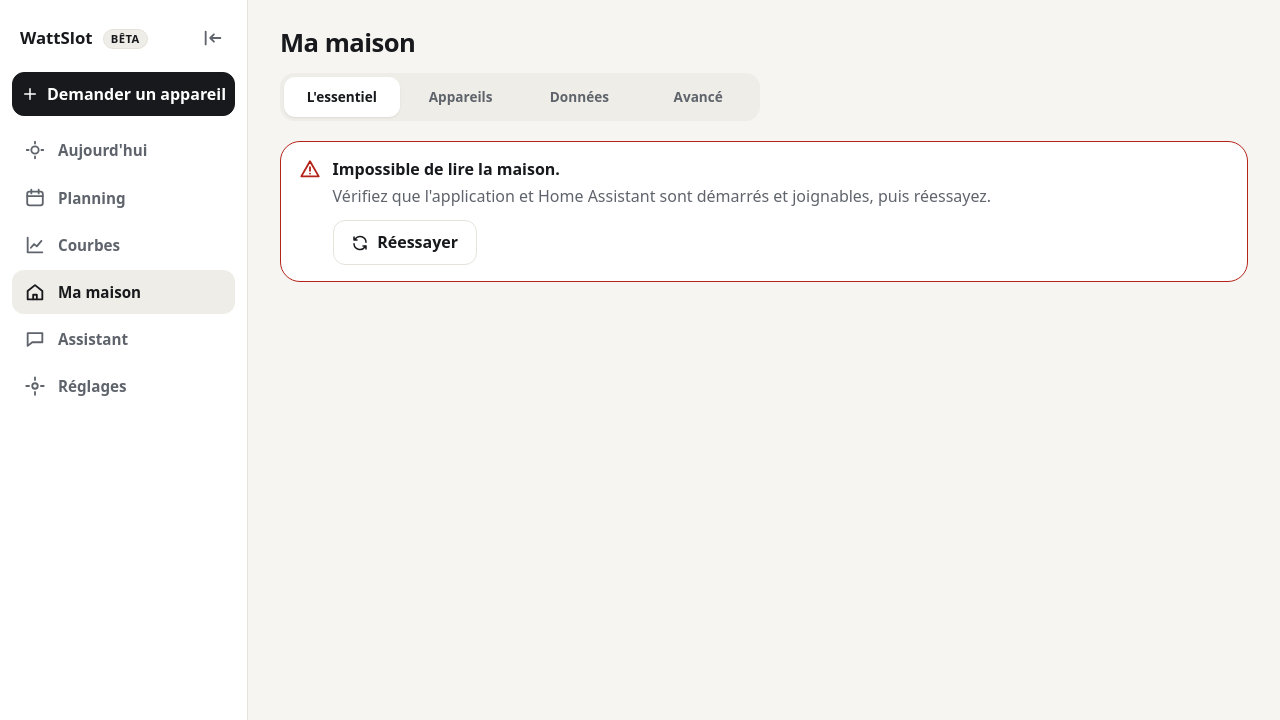
Test case: navigation › range les écrans experts de Ma maison dans l'onglet « Avancé »
Click the tab "Avancé".
click(698, 97)  # box [640, 77, 756, 117]
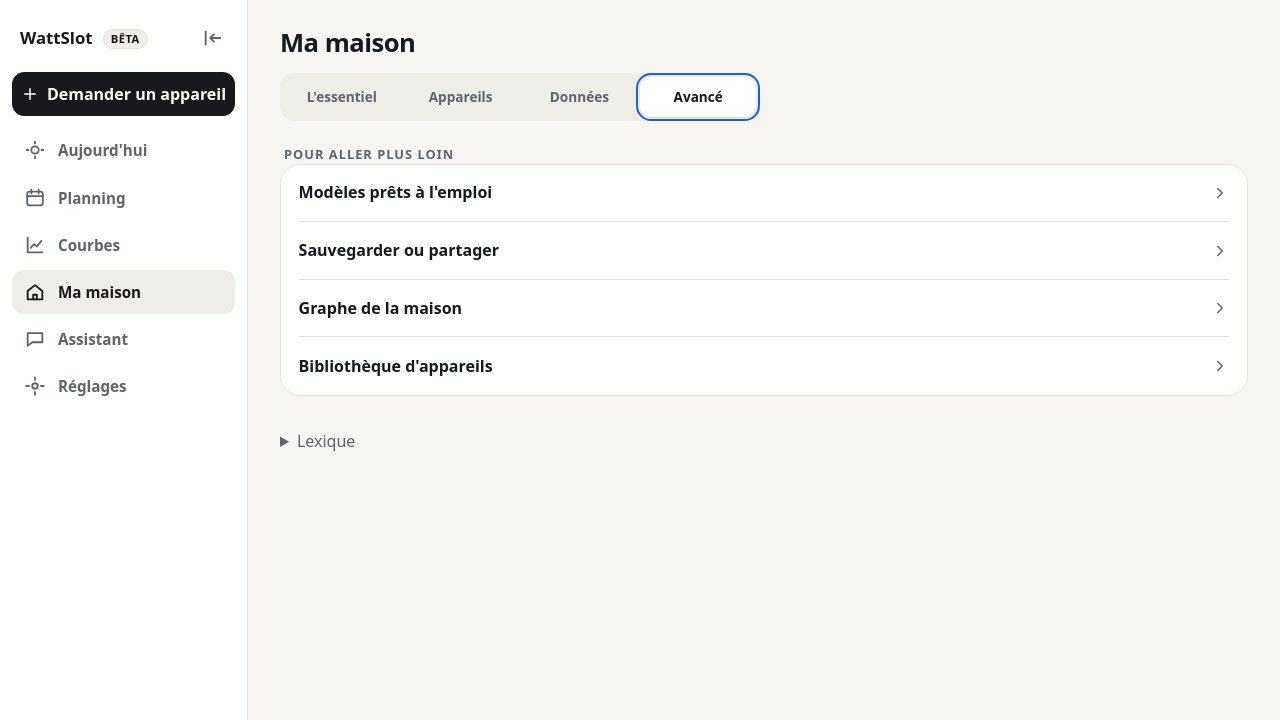
Expected: the heading "Pour aller plus loin" is shown, [284, 145, 454, 163]
Expected: the heading "Lexique" is shown, [297, 430, 355, 452]
